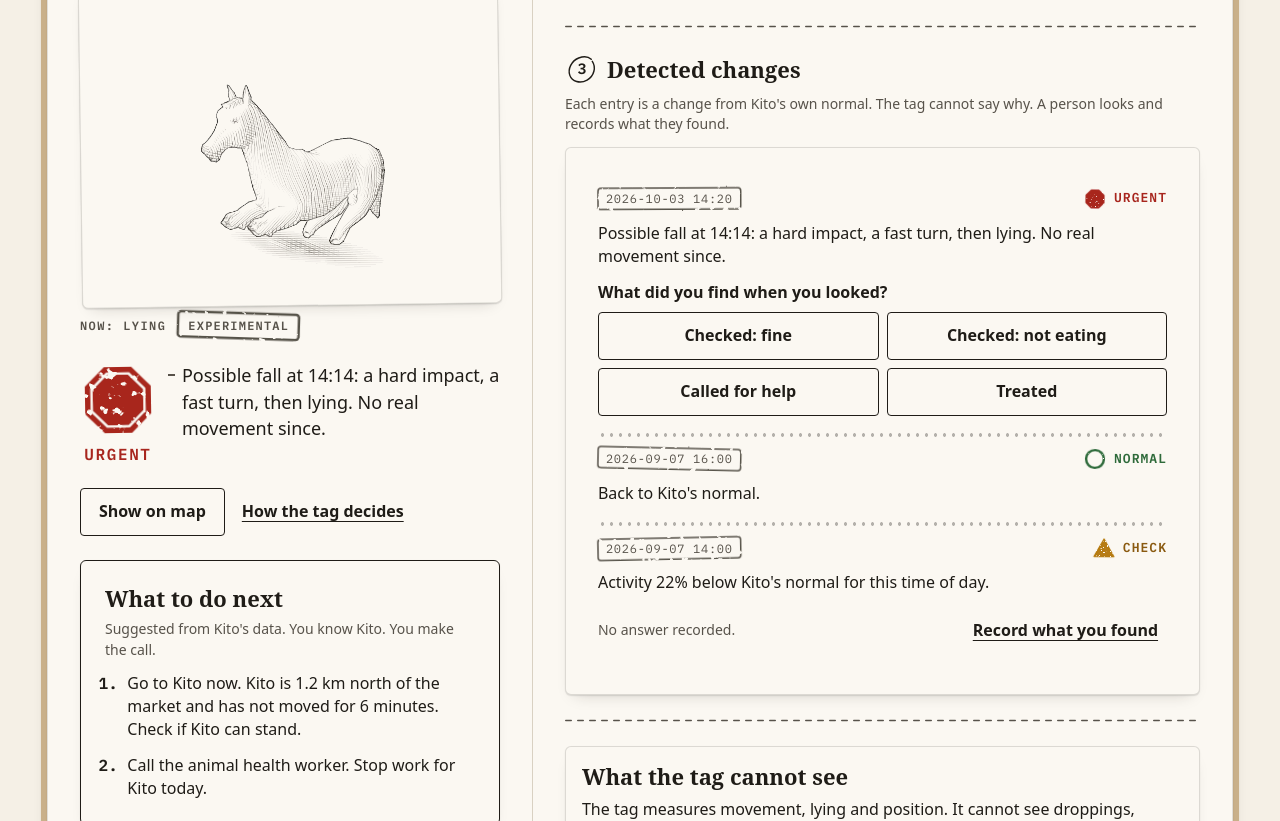
Scenario: animal case file › records feedback, stamps it and stores it for the change
The width and height of the screenshot is (1280, 821).
(page scrolled)
Click the button "Called for help" at {"x": 738, "y": 392}, box [598, 368, 878, 416]
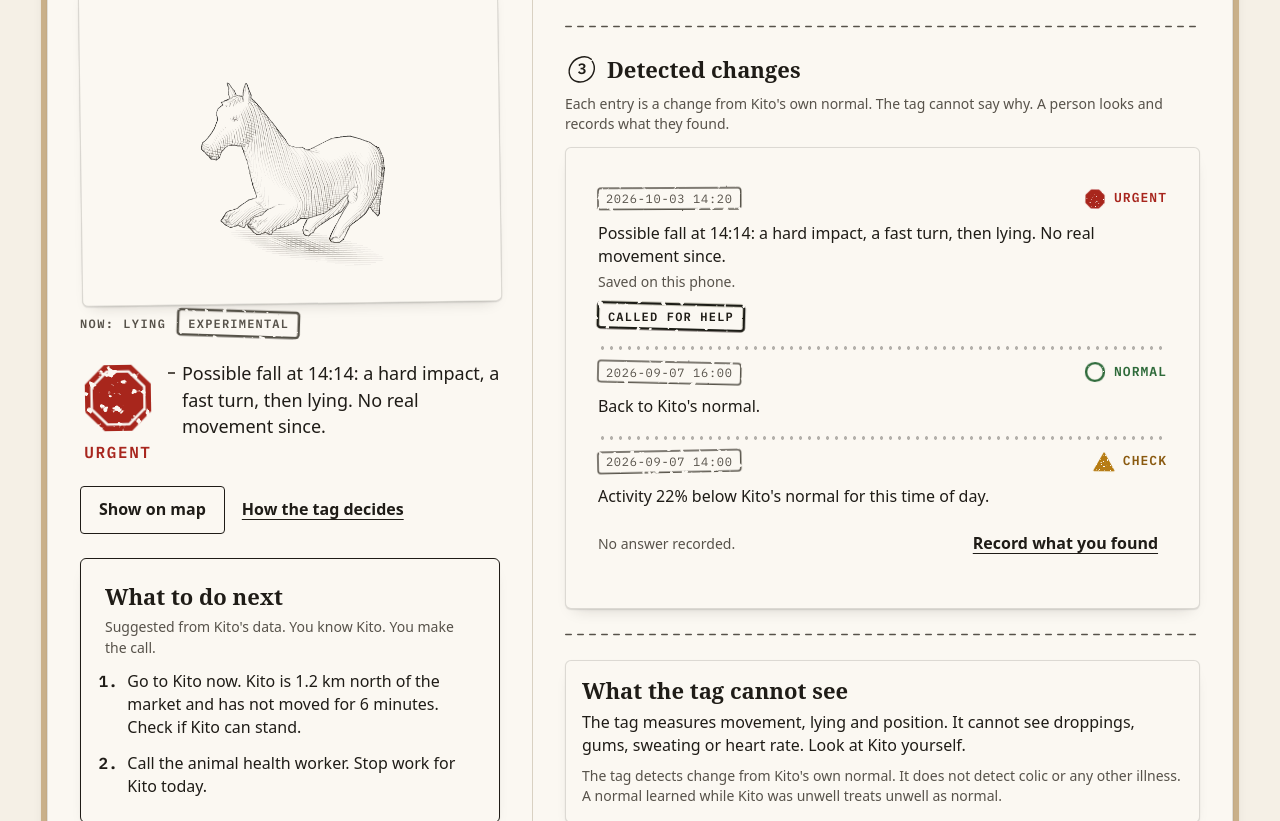
Result: the text "Saved on this phone." is shown at [598, 272, 735, 291]
